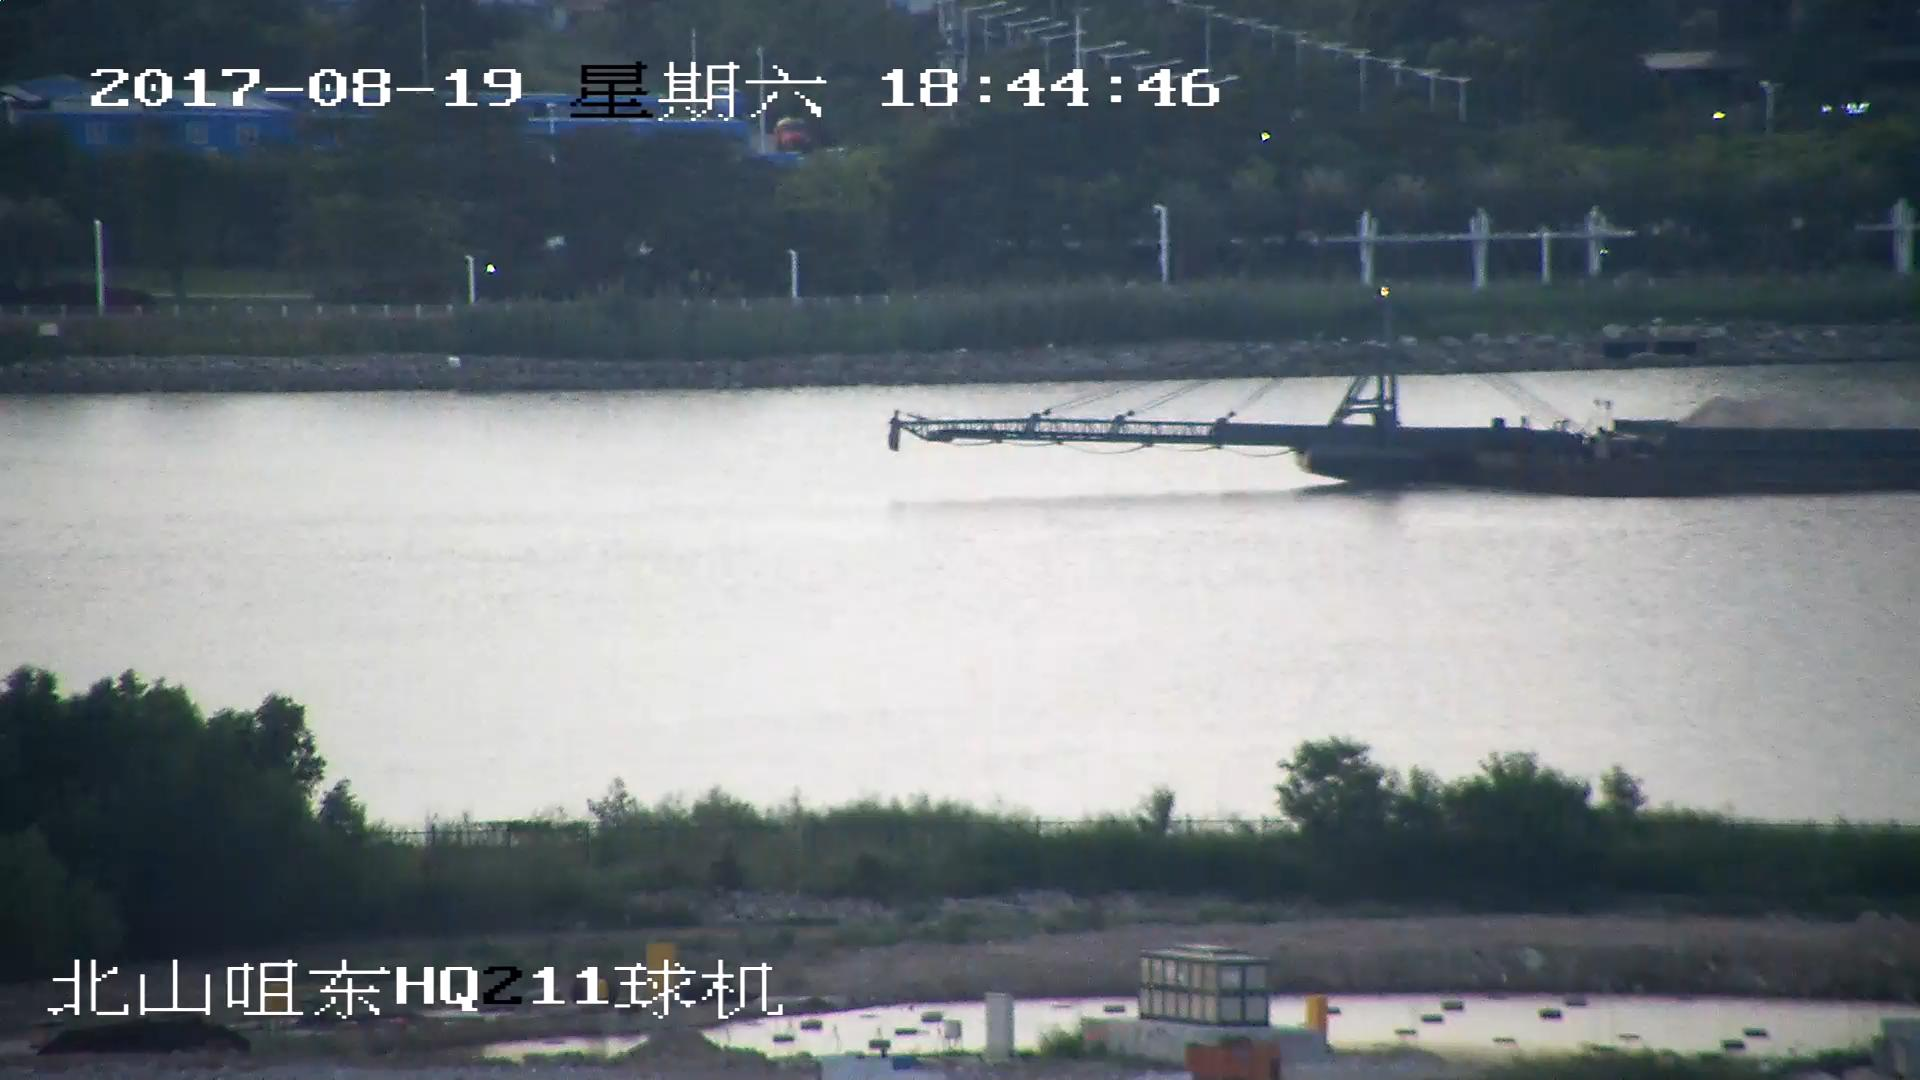ore carrier: (884, 292, 1920, 501)
